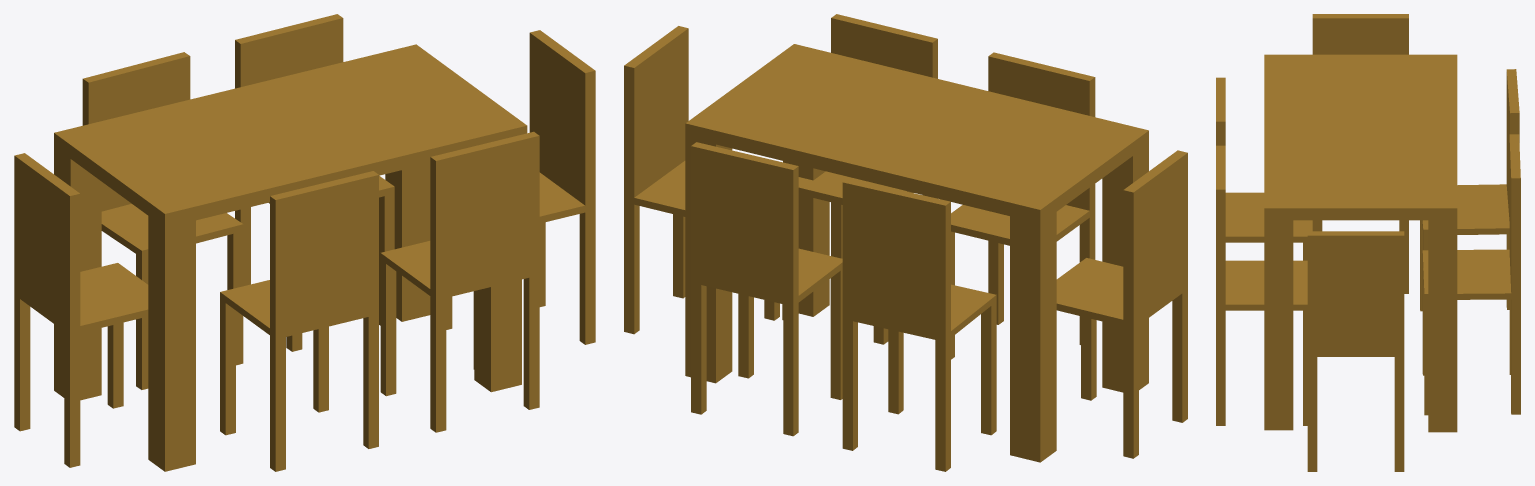
The model's file is Sizzling Stantia-Esboo-2.glb.
3 views of the same model, side by side, from view 1: azimuth 30°, elevation 25°; view 2: azimuth 150°, elevation 25°; view 3: azimuth 270°, elevation 25° (orthographic). The views are drawn at different scales.
Parts seen in each view (by area): view 1: Mesh_Mesh_head_geo.001_lambert2SG.001; view 2: Mesh_Mesh_head_geo.001_lambert2SG.001; view 3: Mesh_Mesh_head_geo.001_lambert2SG.001.
Boxes of the visible parts, x1=… form: Mesh_Mesh_head_geo.001_lambert2SG.001: x1=14, y1=14, x2=595, y2=471; Mesh_Mesh_head_geo.001_lambert2SG.001: x1=624, y1=14, x2=1187, y2=471; Mesh_Mesh_head_geo.001_lambert2SG.001: x1=1216, y1=14, x2=1520, y2=471.
Size of the model in its own units: 0.0785 by 0.039 by 0.0456.
